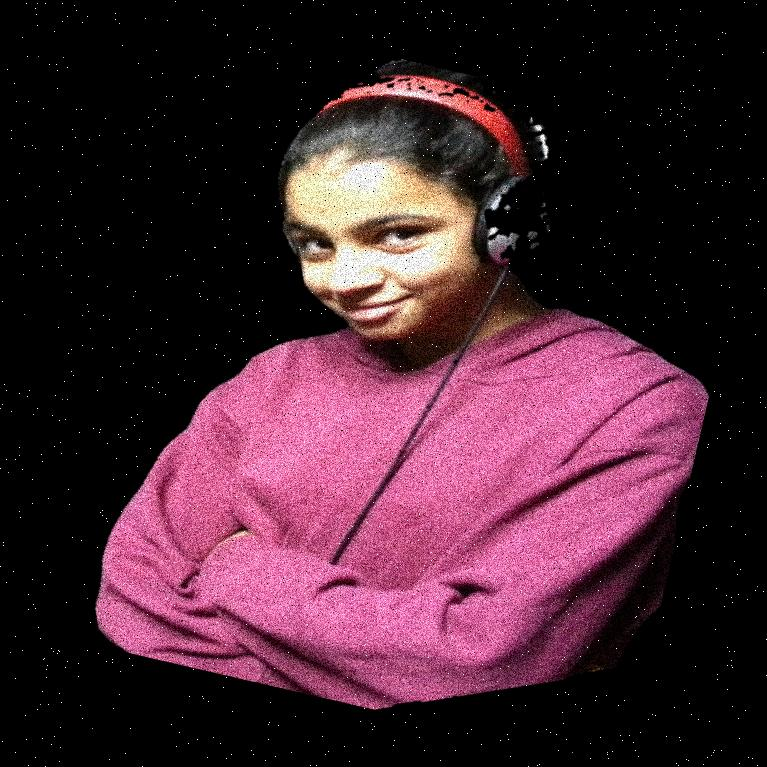Pessoa: (238, 0, 620, 766)
